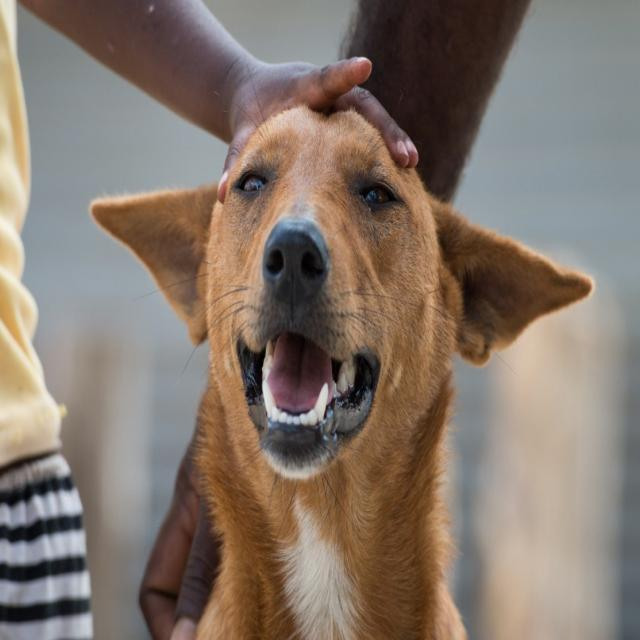Animals: (81, 95, 604, 552)
